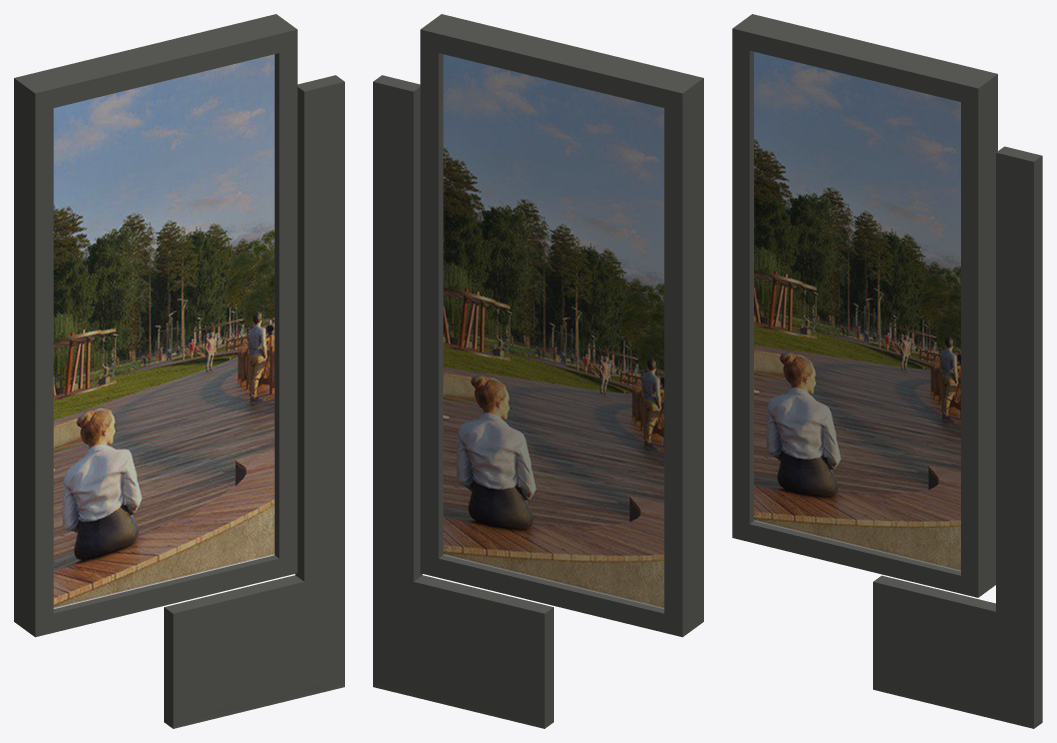
The model's file is SM_ParkStand.FBX.
3 views of the same model, side by side, from view 1: azimuth 30°, elevation 25°; view 2: azimuth 150°, elevation 25°; view 3: azimuth 330°, elevation 25° (orthographic). The views are drawn at different scales.
Parts seen in each view (by area): view 1: model_KLB_ParkStand_01; view 2: model_KLB_ParkStand_01; view 3: model_KLB_ParkStand_01.
Boxes of the visible parts, bbox=[...] form: model_KLB_ParkStand_01: bbox=[14, 14, 344, 728]; model_KLB_ParkStand_01: bbox=[373, 14, 703, 728]; model_KLB_ParkStand_01: bbox=[732, 14, 1042, 728].
Size of the model in its own units: 1.58 by 3.23 by 0.1837.
